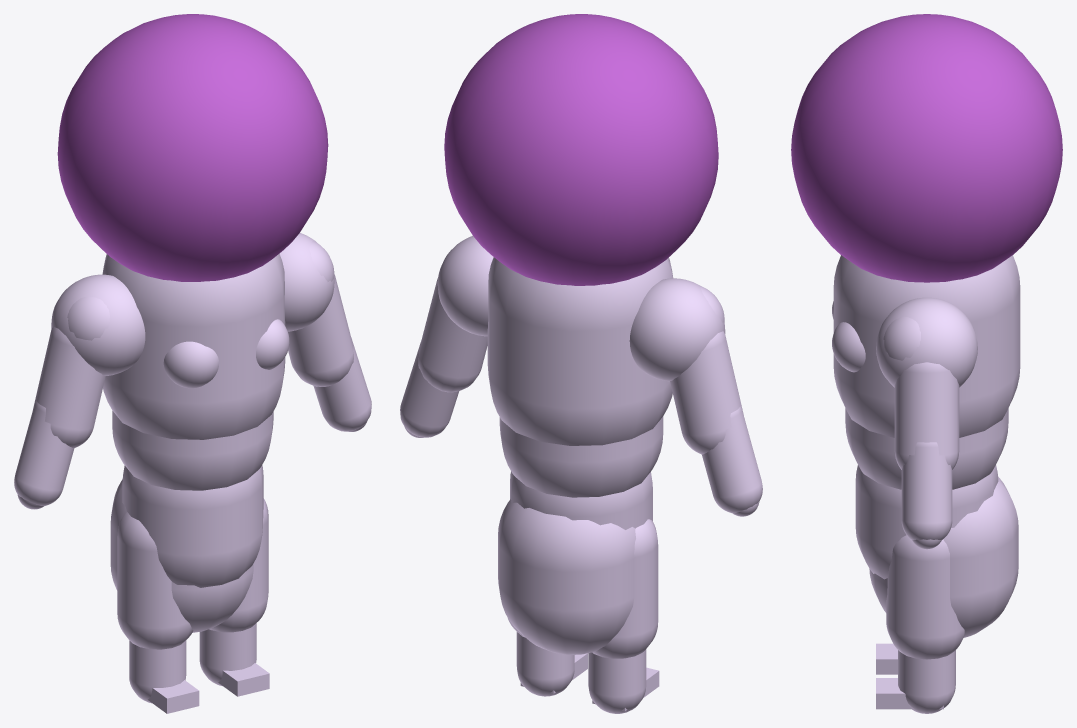
The model's file is ball-head-boss.glb.
The picture shows the model from 3 angles, left to right: view 1: azimuth 30°, elevation 25°; view 2: azimuth 150°, elevation 25°; view 3: azimuth 270°, elevation 25°; orthographic projection.
Visible parts, largest first — view 1: BallHeadBoss; view 2: BallHeadBoss; view 3: BallHeadBoss.
Part boxes in pixels (left/top/right/bottom): BallHeadBoss: left=14, top=14, right=371, bottom=713; BallHeadBoss: left=400, top=14, right=762, bottom=713; BallHeadBoss: left=791, top=14, right=1062, bottom=713.
Size of the model in its own units: 2.39 by 4.34 by 1.6.
